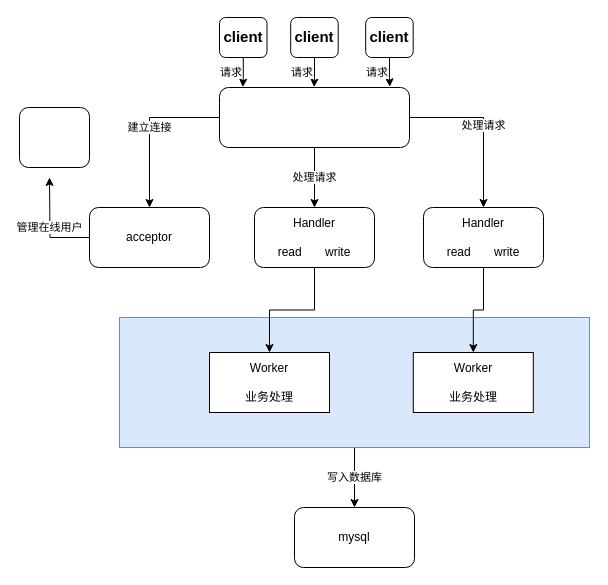
This 608x585 diagram has some shape labels left out. Each missing label, with the box of its shape:
Manager: (18, 106, 90, 168)
react select dispatch: (218, 86, 410, 148)
ThreadPool: (118, 316, 590, 448)
